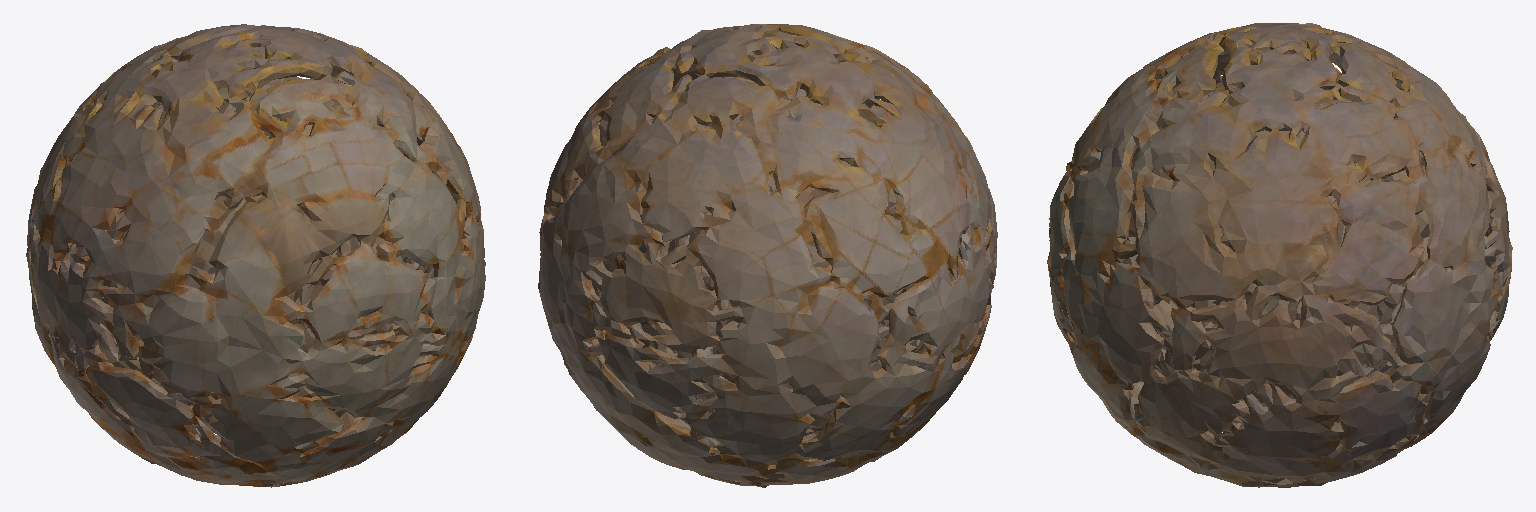
3 renders of one model, left to right at view 1: azimuth 30°, elevation 25°; view 2: azimuth 150°, elevation 25°; view 3: azimuth 270°, elevation 25°, orthographic.
Parts seen in each view (by area): view 1: file1; view 2: file1; view 3: file1.
Part boxes in pixels (left/top/right/bottom): file1: left=26, top=24, right=485, bottom=487; file1: left=538, top=24, right=997, bottom=487; file1: left=1047, top=23, right=1512, bottom=487.
Size of the model in its own units: 1.98 by 1.99 by 2.
1 materials, 1 textured.